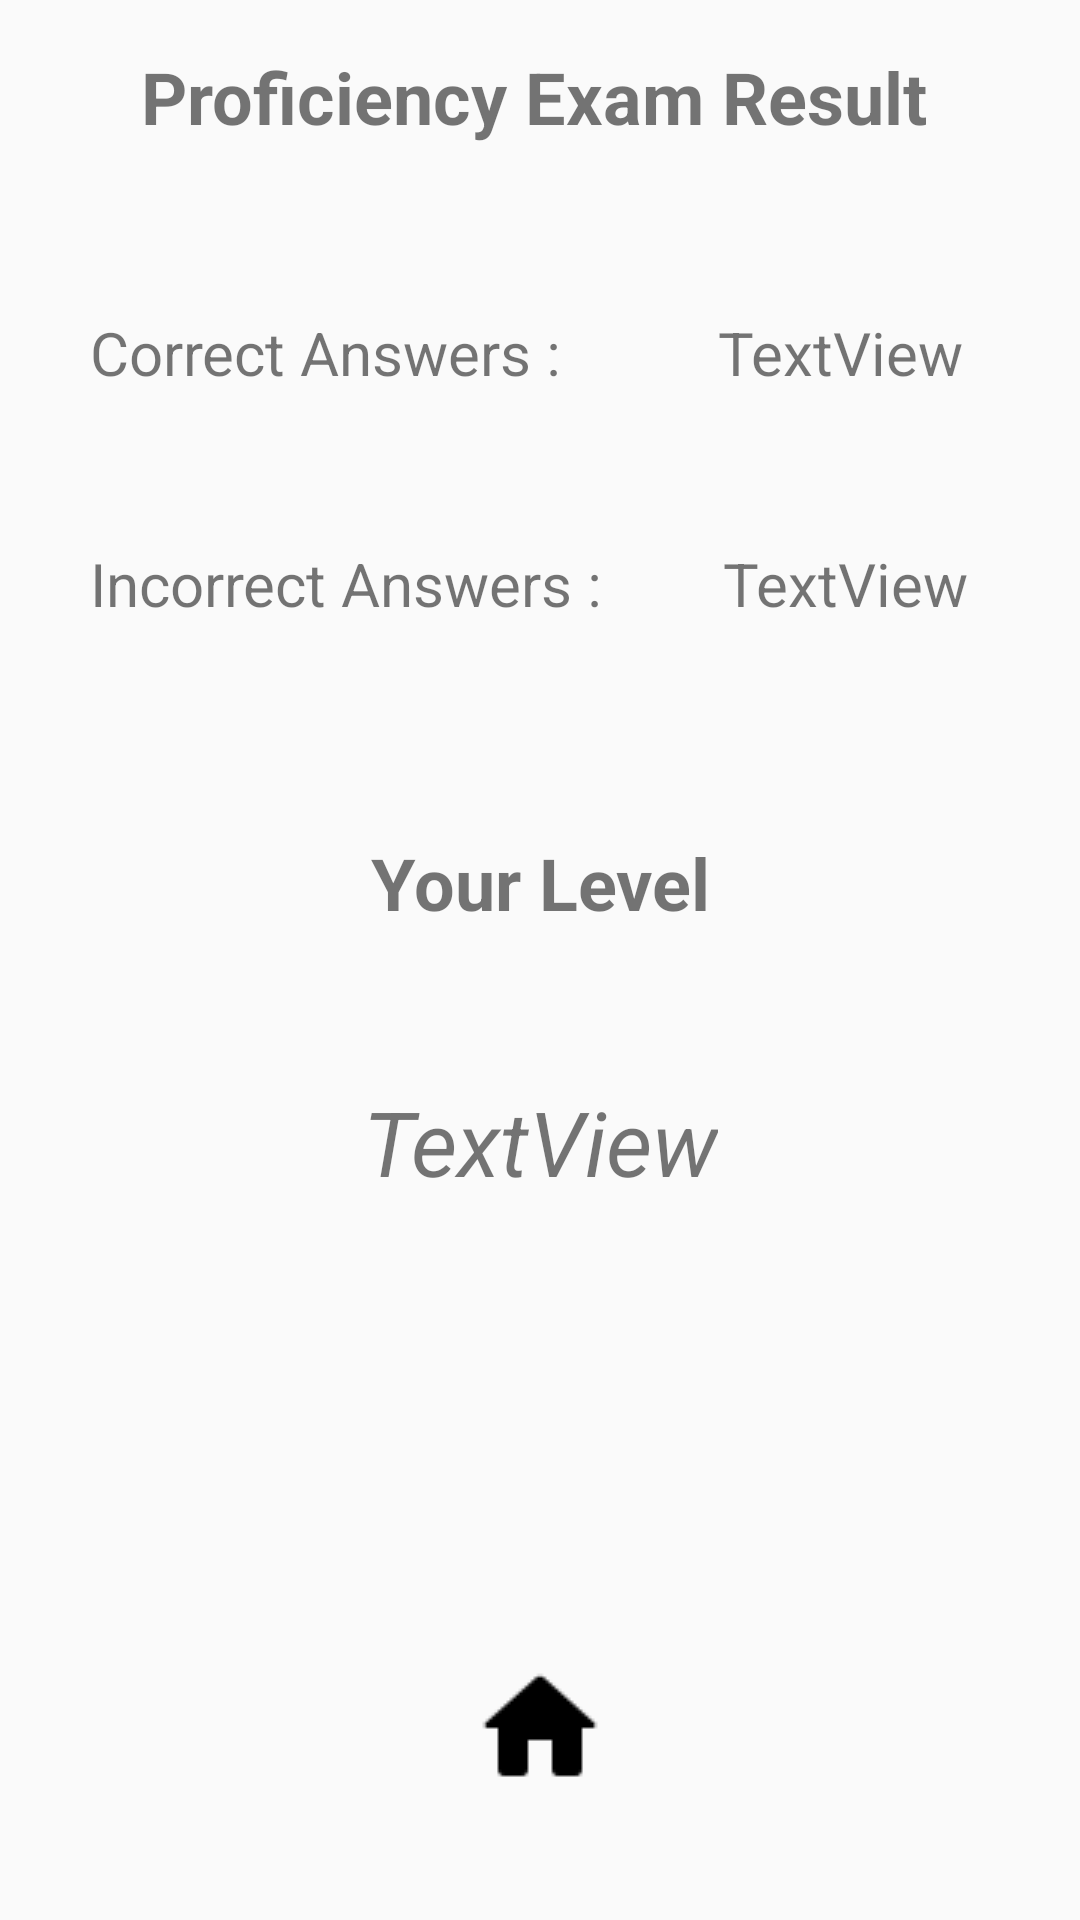

Where to tap for icons on this 1080px x 1920px app screen, as point (x, y):
home: point (540, 1725)
